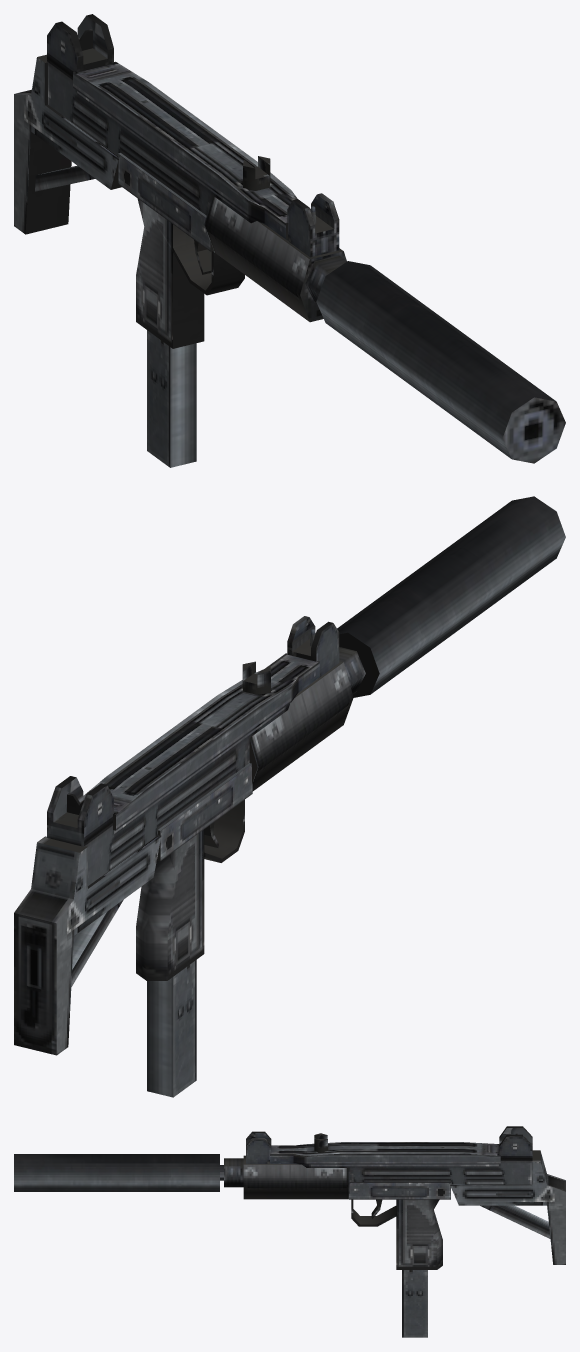
File: Smg.fbx
The picture shows the model from 3 angles, top to bottom: view 1: azimuth 30°, elevation 25°; view 2: azimuth 150°, elevation 25°; view 3: azimuth 270°, elevation 25°; orthographic projection. The views are drawn at different scales.
Visible parts, largest first — view 1: Body, Suppressor, Magazine, ChargingHandle; view 2: Body, Suppressor, Magazine, ChargingHandle; view 3: Body, Suppressor, Magazine.
Boxes of the visible parts, box(x1,y1,x2,y2) form: Body: box(14, 14, 346, 348); Suppressor: box(316, 261, 565, 463); Magazine: box(147, 330, 196, 467); ChargingHandle: box(243, 156, 270, 190); Body: box(14, 616, 365, 1055); Suppressor: box(337, 496, 565, 697); Magazine: box(147, 960, 196, 1097); ChargingHandle: box(242, 661, 270, 694); Body: box(220, 1126, 565, 1269); Suppressor: box(14, 1154, 219, 1191); Magazine: box(402, 1270, 427, 1337).
Bounding box in the file's own units: 35.6 × 197 × 485.
